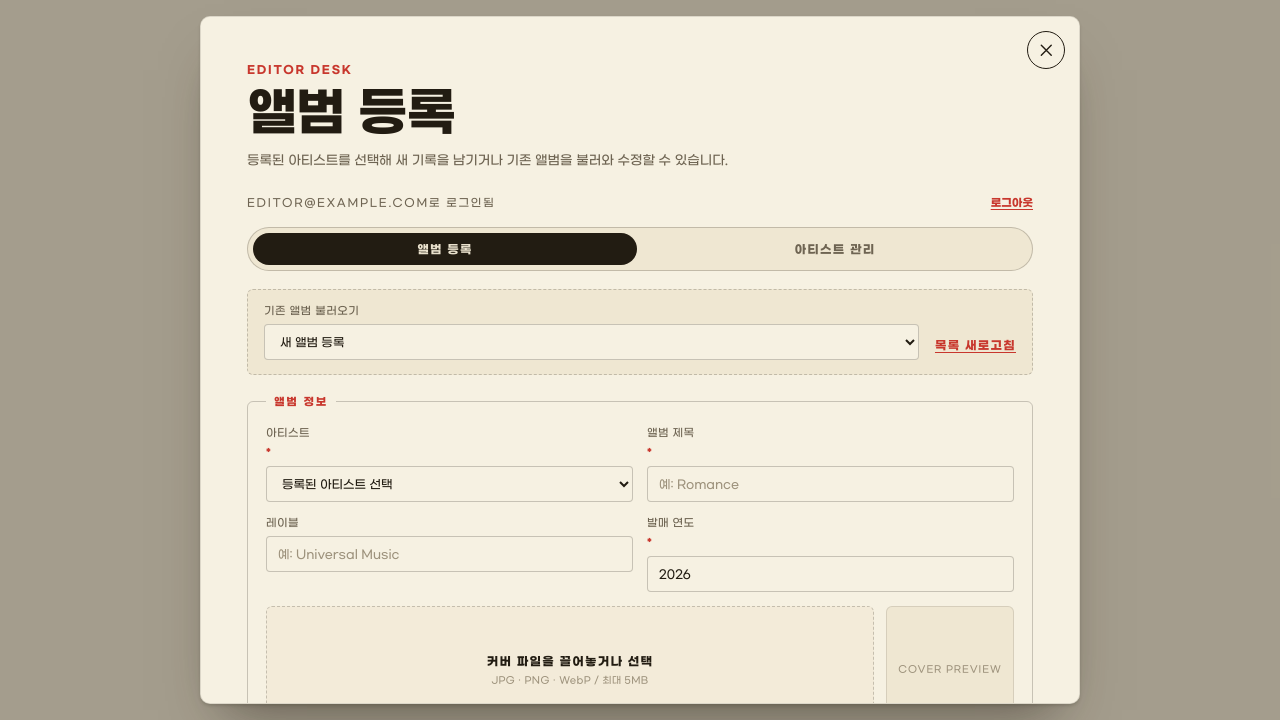
Test: SubmissionSheet › 같은 아티스트, 앨범명, 발매 연도의 중복 등록을 막는다
Select "Artist" in the dropdown labelled "아티스트 *". click: (450,484)
box: [266,466,633,502]
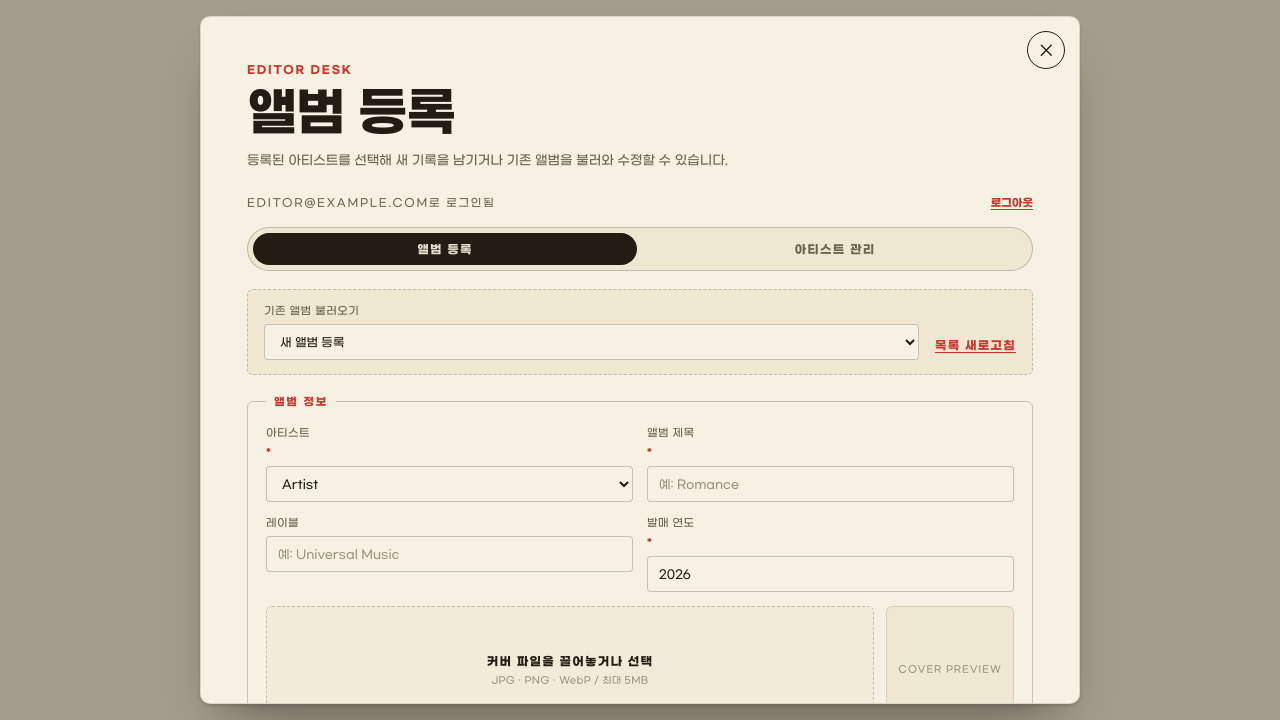
Type "Original album" into the field labelled "앨범 제목 *". click: (830,484)
box: [647,466,1014,502]
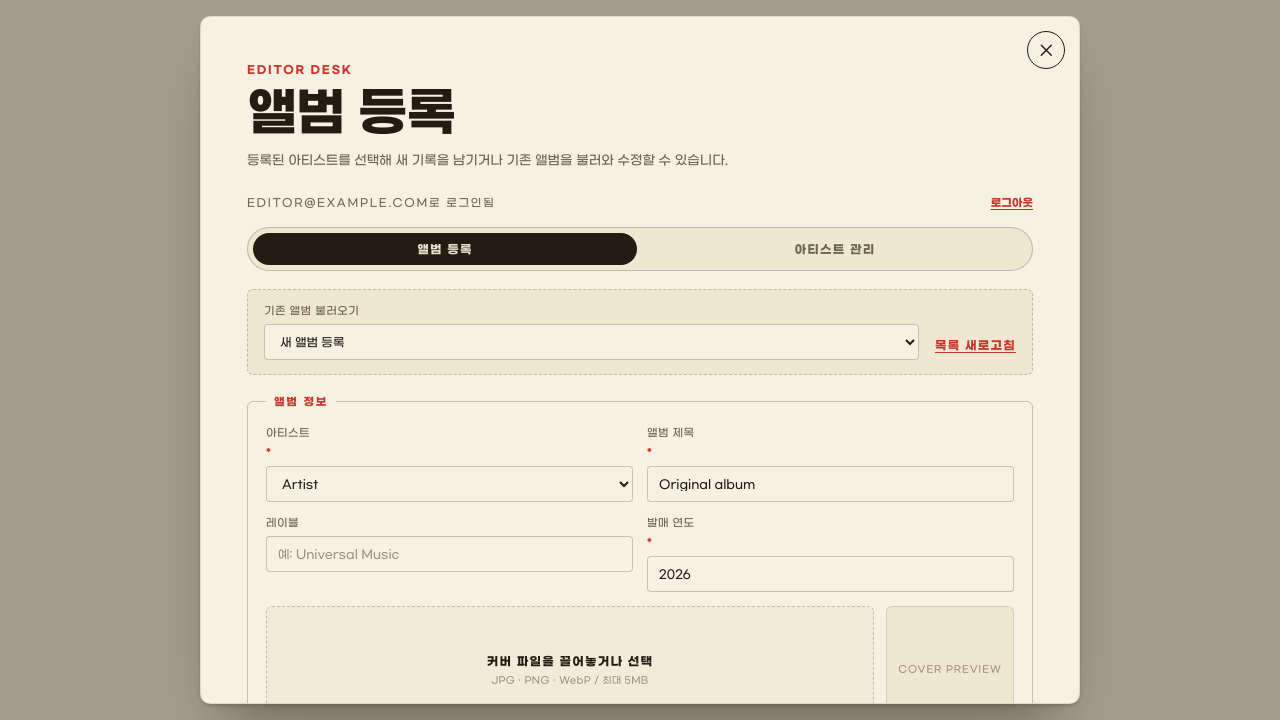
Replace the text in the number field labelled "발매 연도 *" with "2024". click: (830,574)
box: [647,556,1014,592]
(page scrolled)
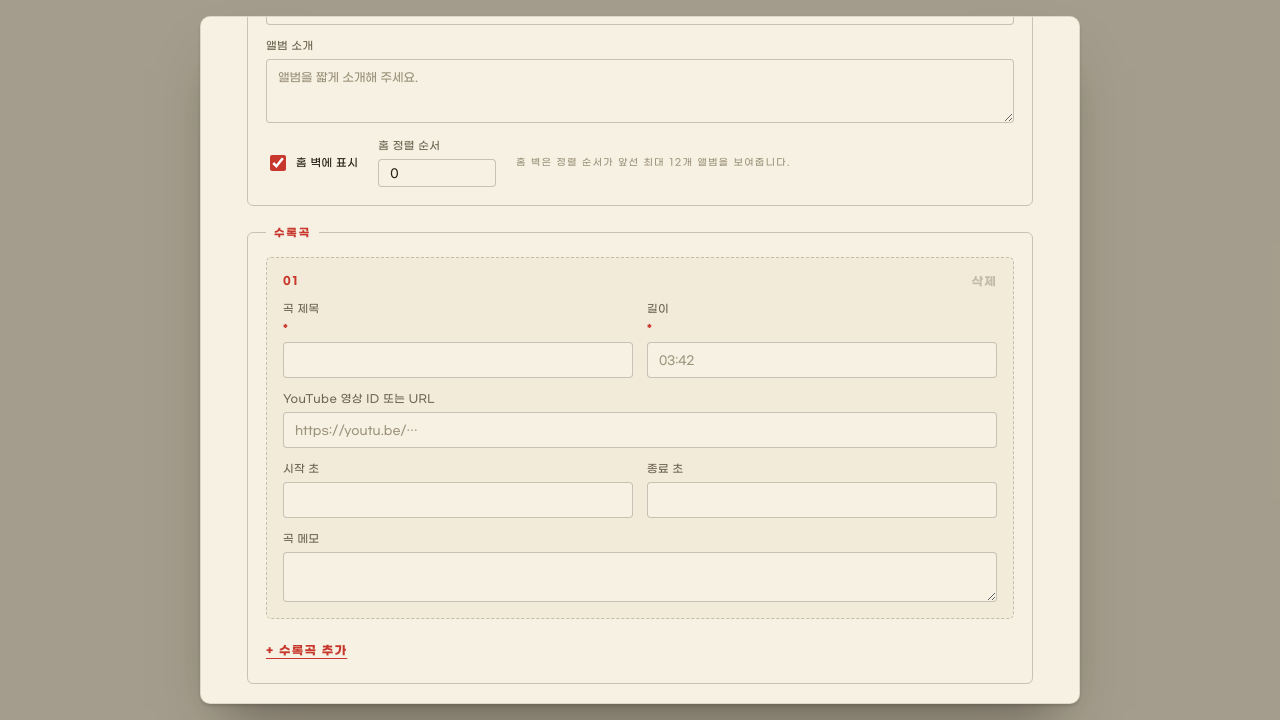
Type "A new track" into the field labelled "곡 제목 *". click: (458,360)
box: [283,342,633,378]
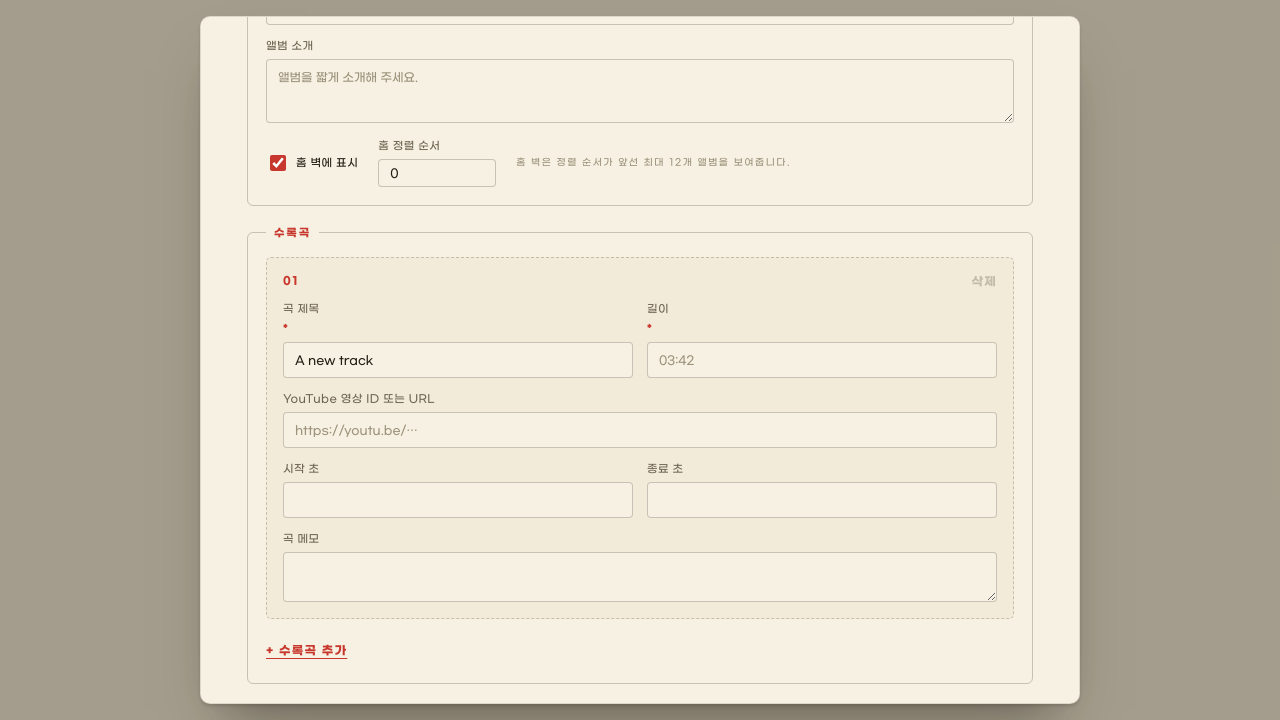
Type "03:20" into the field labelled "길이 *". click: (822,360)
box: [647,342,997,378]
(page scrolled)
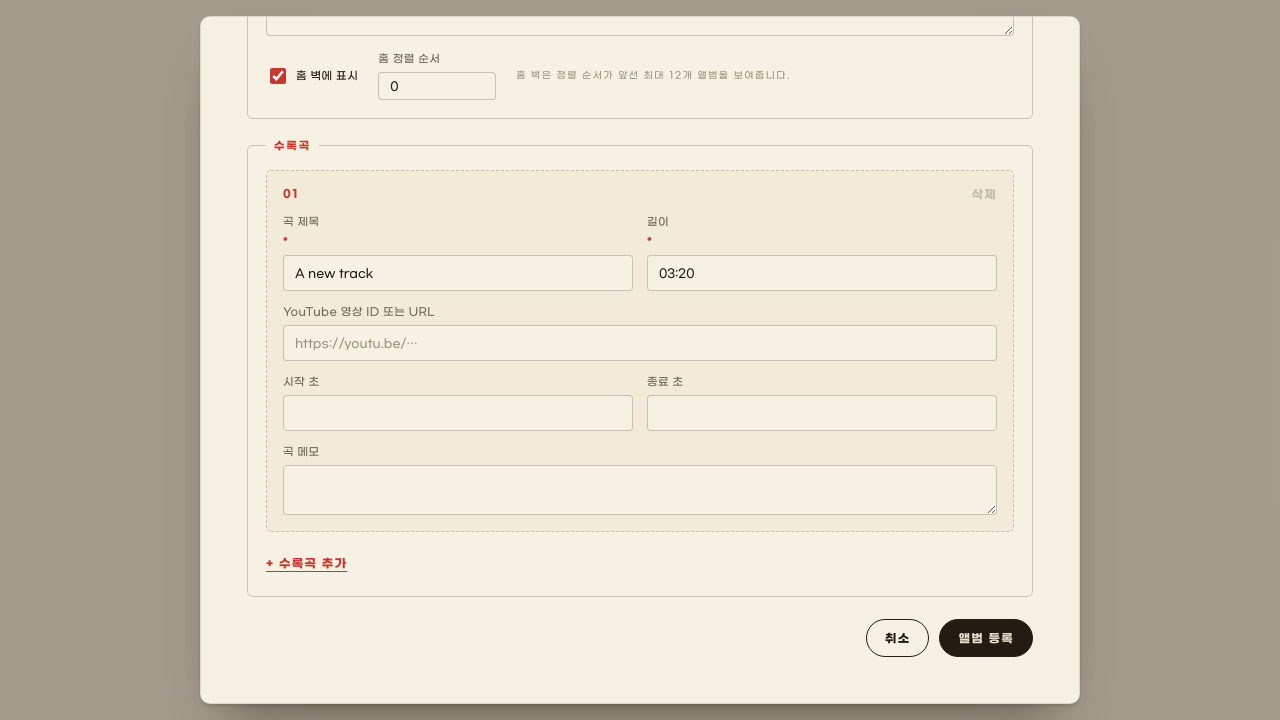
Click the button "앨범 등록". click: (986,638)
box: [940,619,1033,657]
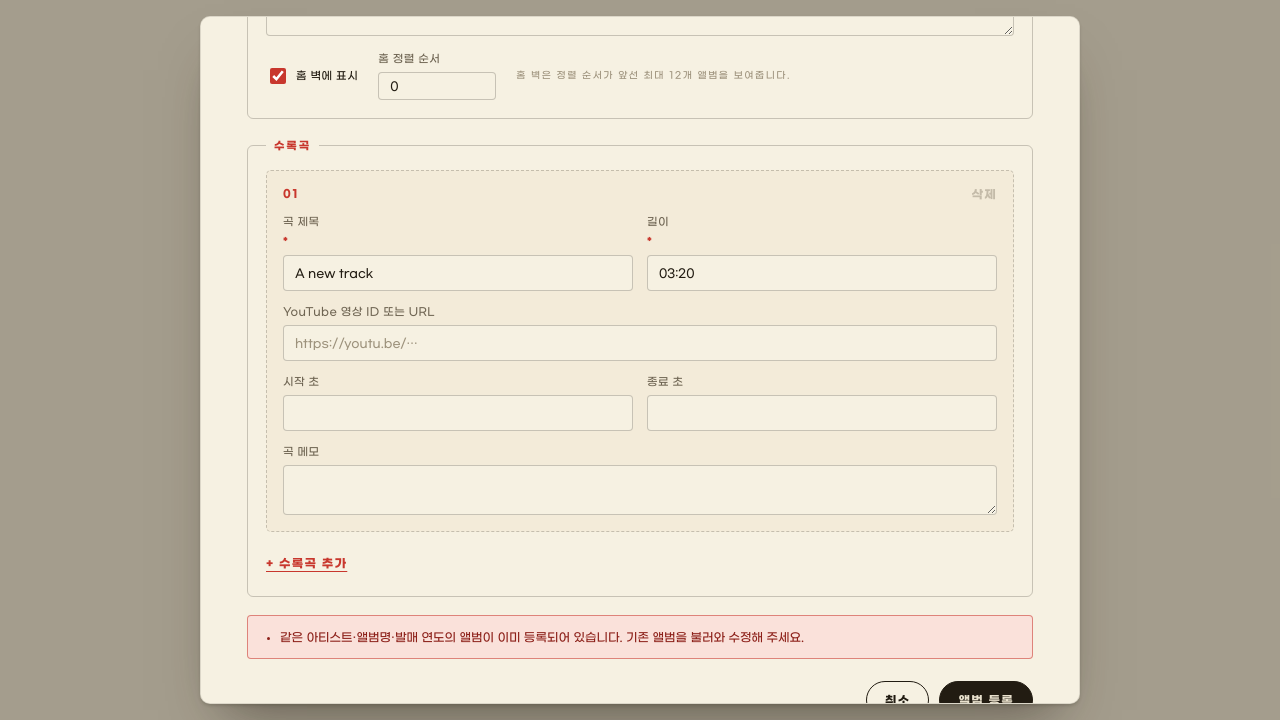
expect the message shows "같은 아티스트·앨범명·발매 연도의 앨범이 이미 등록되어 있습니다.": met, box [280,631,804,643]
